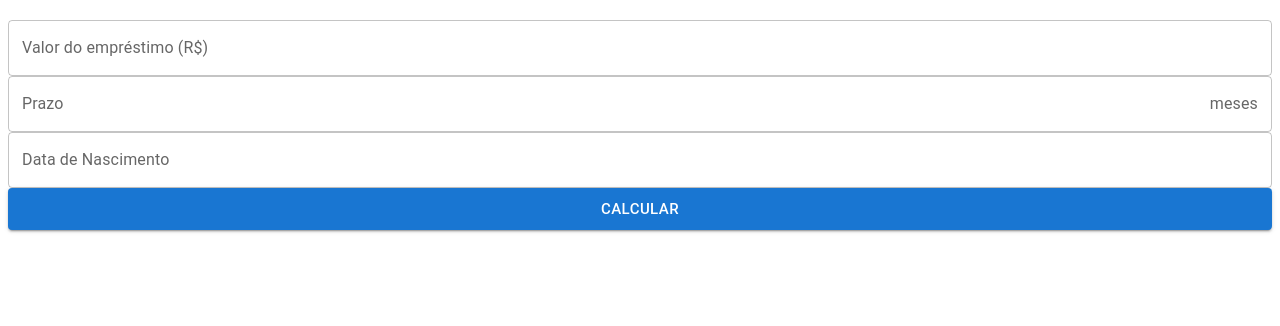
Test case: LoanForm › validates minimum loan amount
Type "500" into the field labelled "Valor do empréstimo (R$)" at (640,48), box [8,20,1272,76]
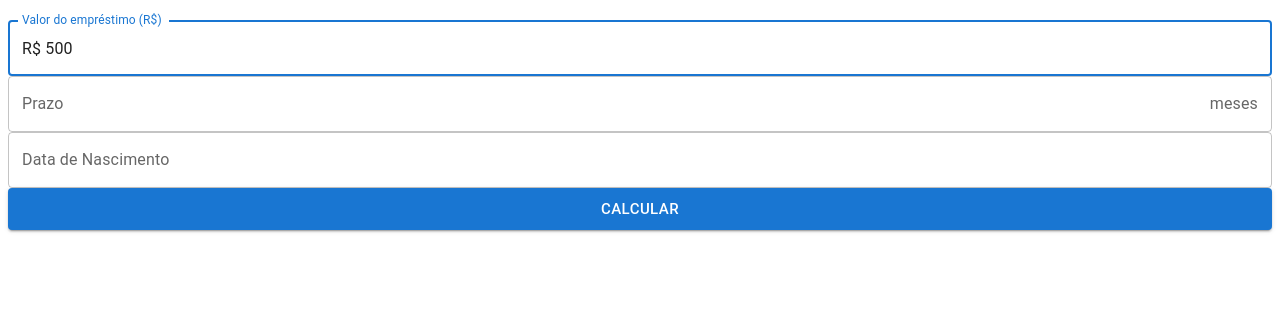
Click the button "Calcular" at (640,209), box [8,188,1272,230]
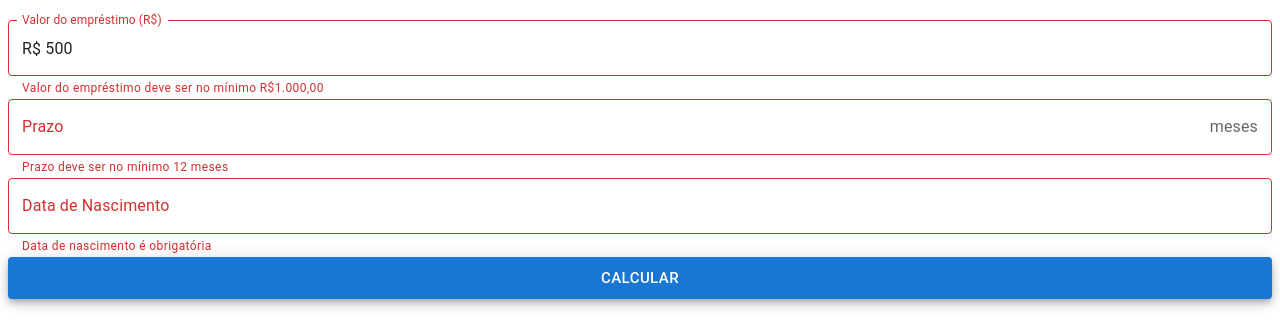
Result: the text "Valor do empréstimo deve ser no mínimo R$1.000,00" is shown at [22,81,324,95]
